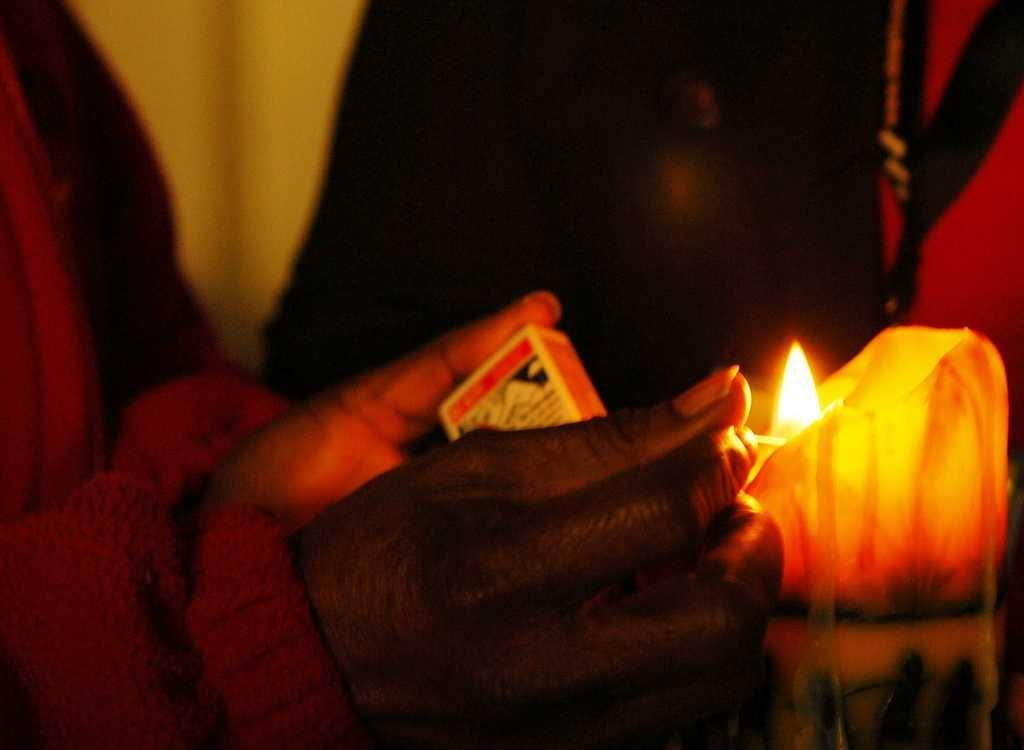fire: (774, 340, 822, 439)
